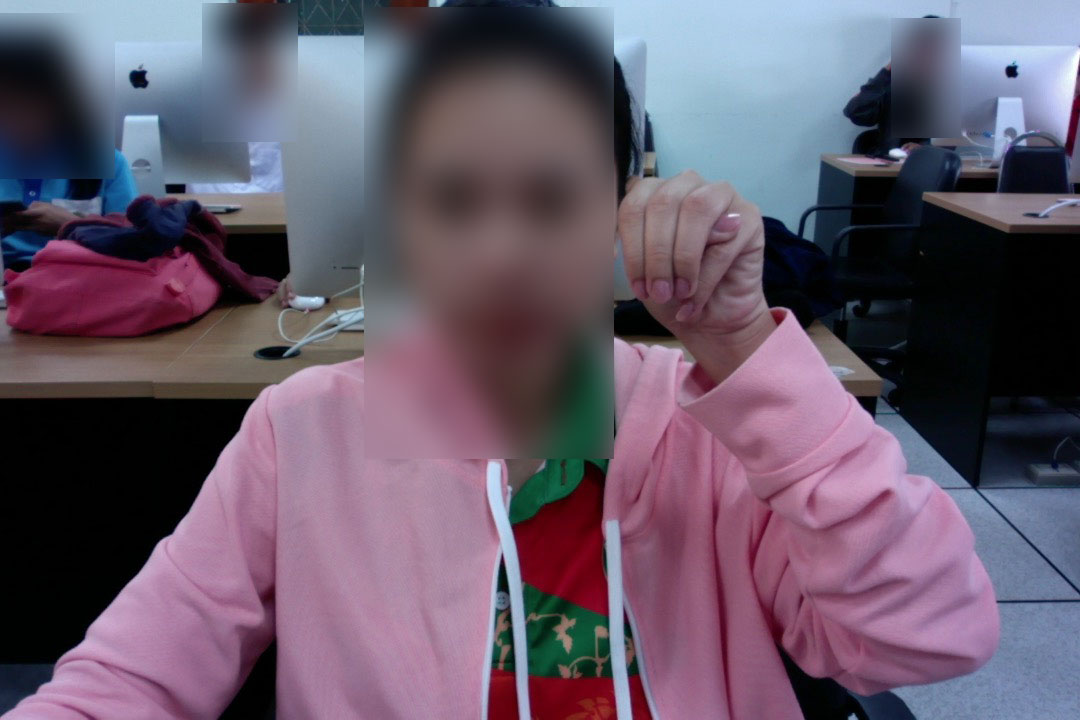mor: (611, 164, 771, 351)
